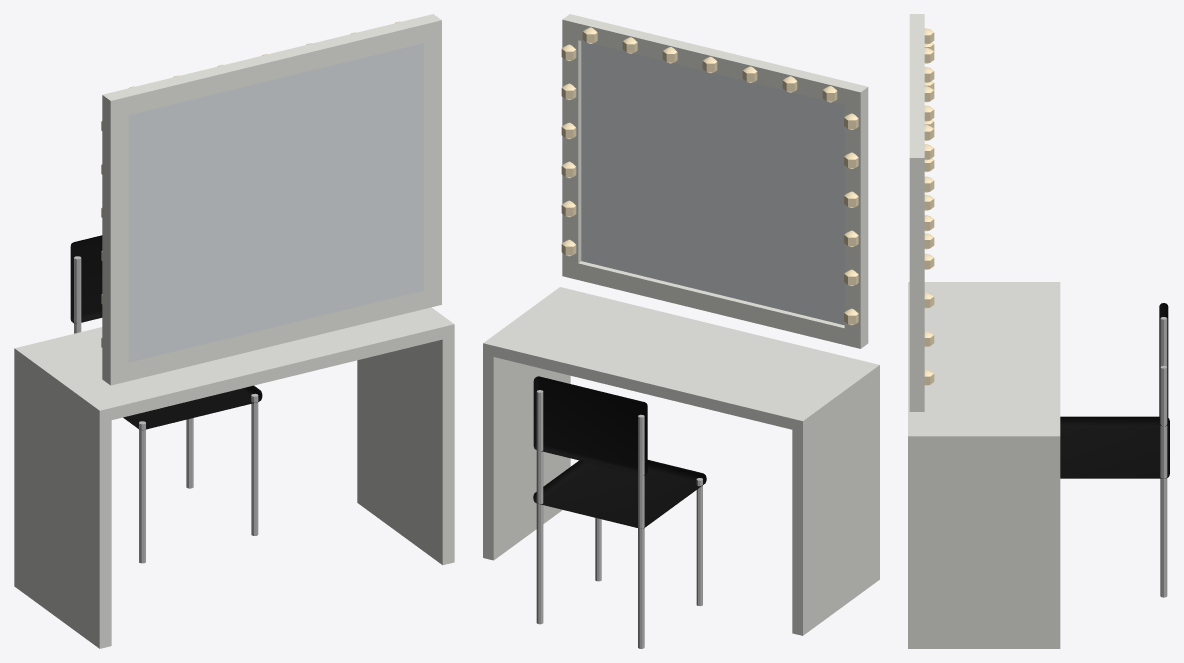
File: venue.backstage.dressing_table.glb
The picture shows the model from 3 angles, left to right: view 1: azimuth 30°, elevation 25°; view 2: azimuth 150°, elevation 25°; view 3: azimuth 270°, elevation 25°; orthographic projection. The views are drawn at different scales.
Visible parts, largest first — view 1: main__mirror, main__laminate_white, main__paint_white, chair__leather_black, chair__steel_stainless; view 2: main__mirror, main__laminate_white, main__paint_white, chair__leather_black, chair__steel_stainless, main__glow; view 3: main__laminate_white, chair__leather_black, main__paint_white, main__glow, chair__steel_stainless.
Part boxes in pixels (x1,y1,x2,y2): main__mirror: (128, 43, 423, 362); main__laminate_white: (14, 307, 454, 648); main__paint_white: (102, 14, 441, 385); chair__leather_black: (70, 235, 262, 430); chair__steel_stainless: (74, 256, 258, 563); main__mirror: (581, 41, 844, 325); main__laminate_white: (483, 287, 879, 635); main__paint_white: (562, 14, 868, 348); chair__leather_black: (533, 376, 706, 528); chair__steel_stainless: (536, 390, 702, 648); main__glow: (561, 27, 858, 325); main__laminate_white: (908, 282, 1060, 648); chair__leather_black: (1060, 303, 1169, 478); main__paint_white: (909, 14, 924, 411); main__glow: (924, 28, 934, 385); chair__steel_stainless: (1160, 317, 1167, 597).
Bounding box in the file's own units: 1.2 × 1.76 × 0.86.
